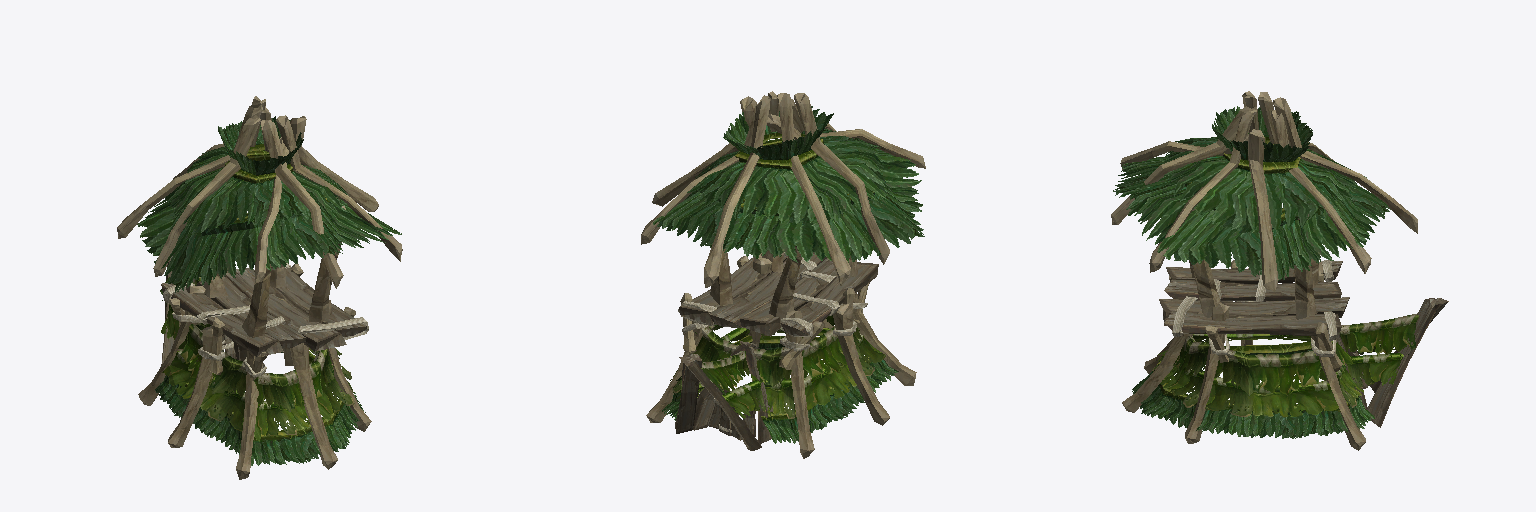
The picture shows the model from 3 angles: view 1: azimuth 30°, elevation 25°; view 2: azimuth 150°, elevation 25°; view 3: azimuth 270°, elevation 25°; orthographic projection.
Visible parts, largest first — view 1: oracle_hut01_set1; view 2: oracle_hut01_set1; view 3: oracle_hut01_set1.
Boxes of the visible parts, box(x1,y1,x2,y2) form: oracle_hut01_set1: box(117, 96, 402, 479); oracle_hut01_set1: box(641, 91, 925, 458); oracle_hut01_set1: box(1111, 91, 1448, 450).
Size of the model in its own units: 10.17 by 12.92 by 12.53.
4 materials, 4 textured.